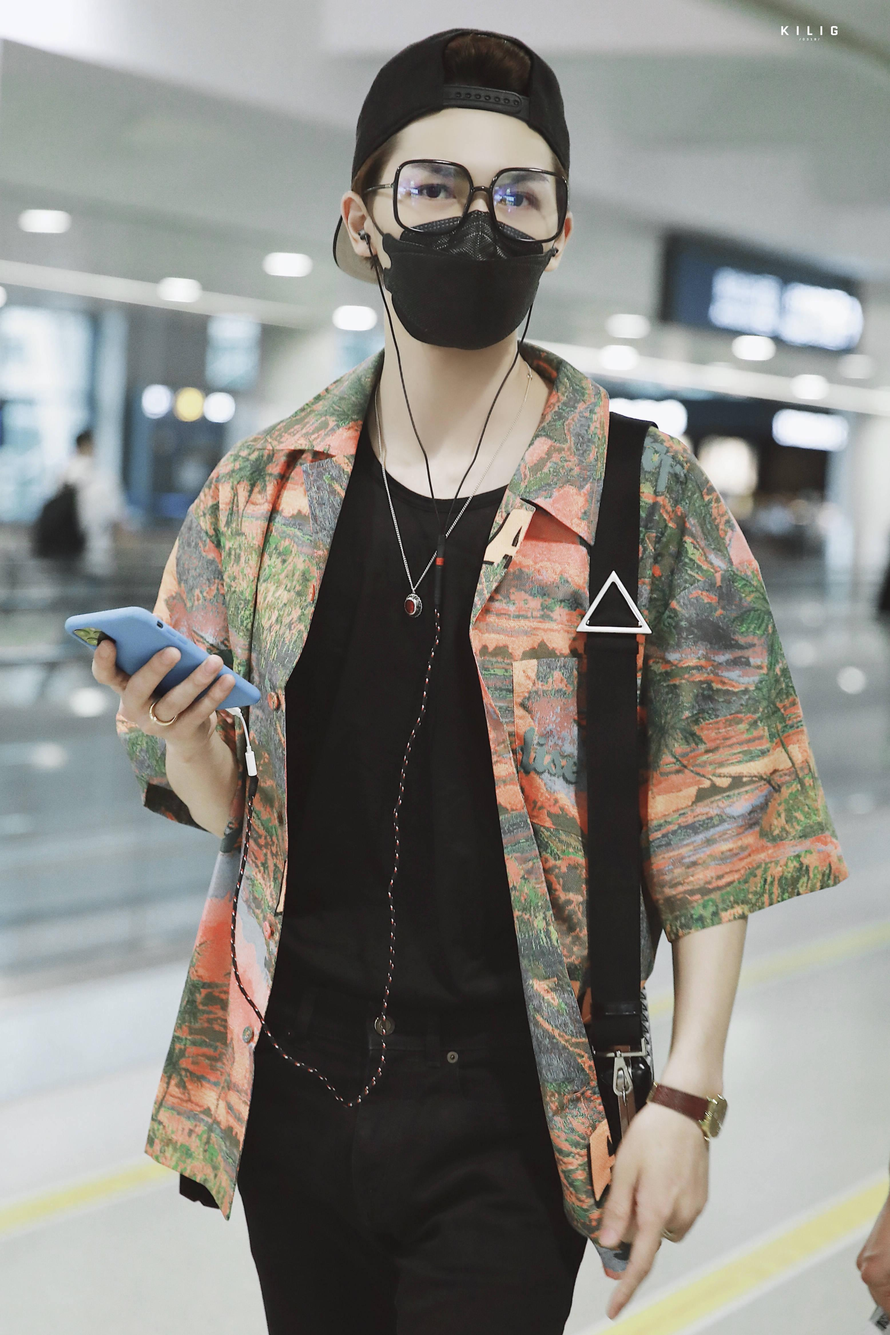OK: (388, 138, 558, 351)
